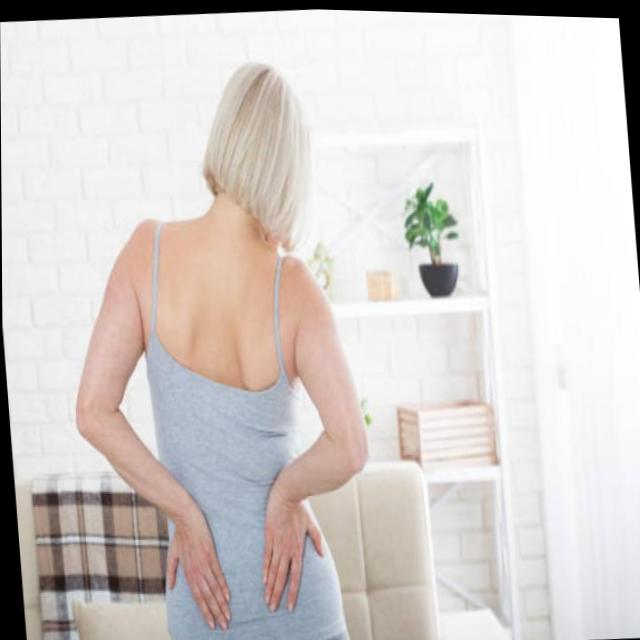no helmet: (193, 49, 322, 257)
